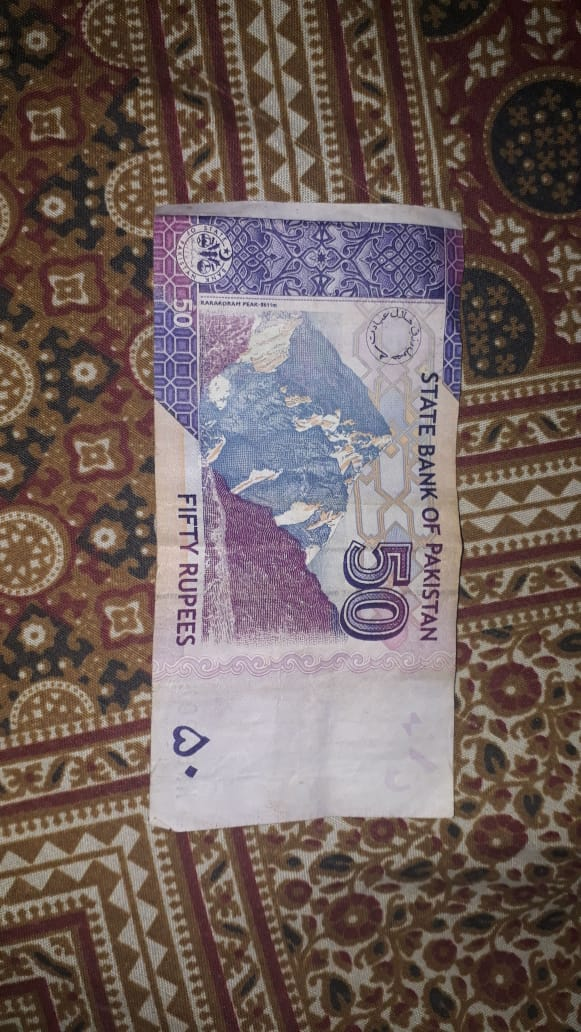50 rupee: (135, 187, 464, 861)
